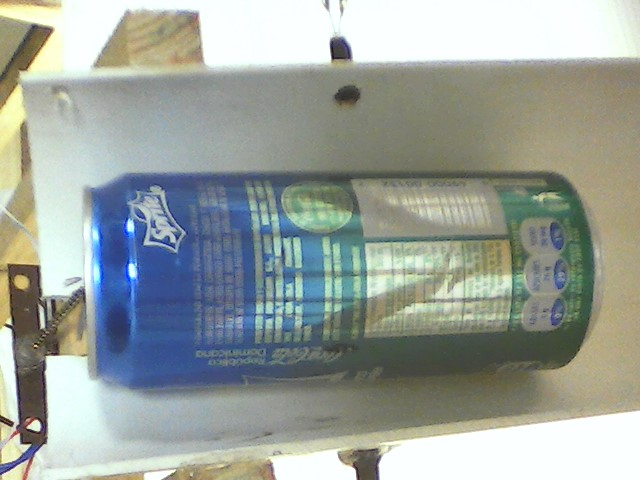lata: (78, 166, 609, 395)
